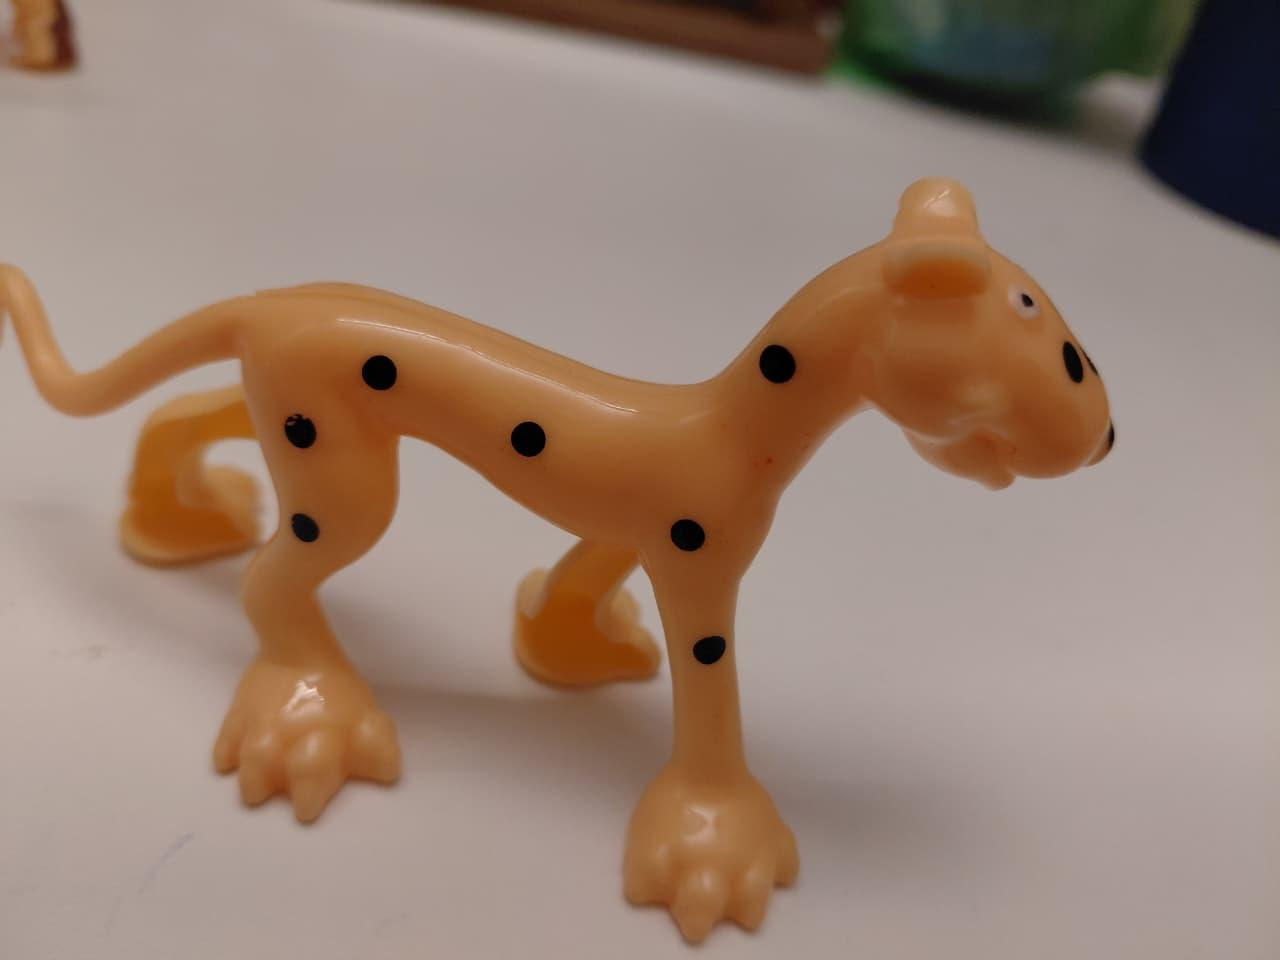cheetah: (4, 154, 1150, 948)
